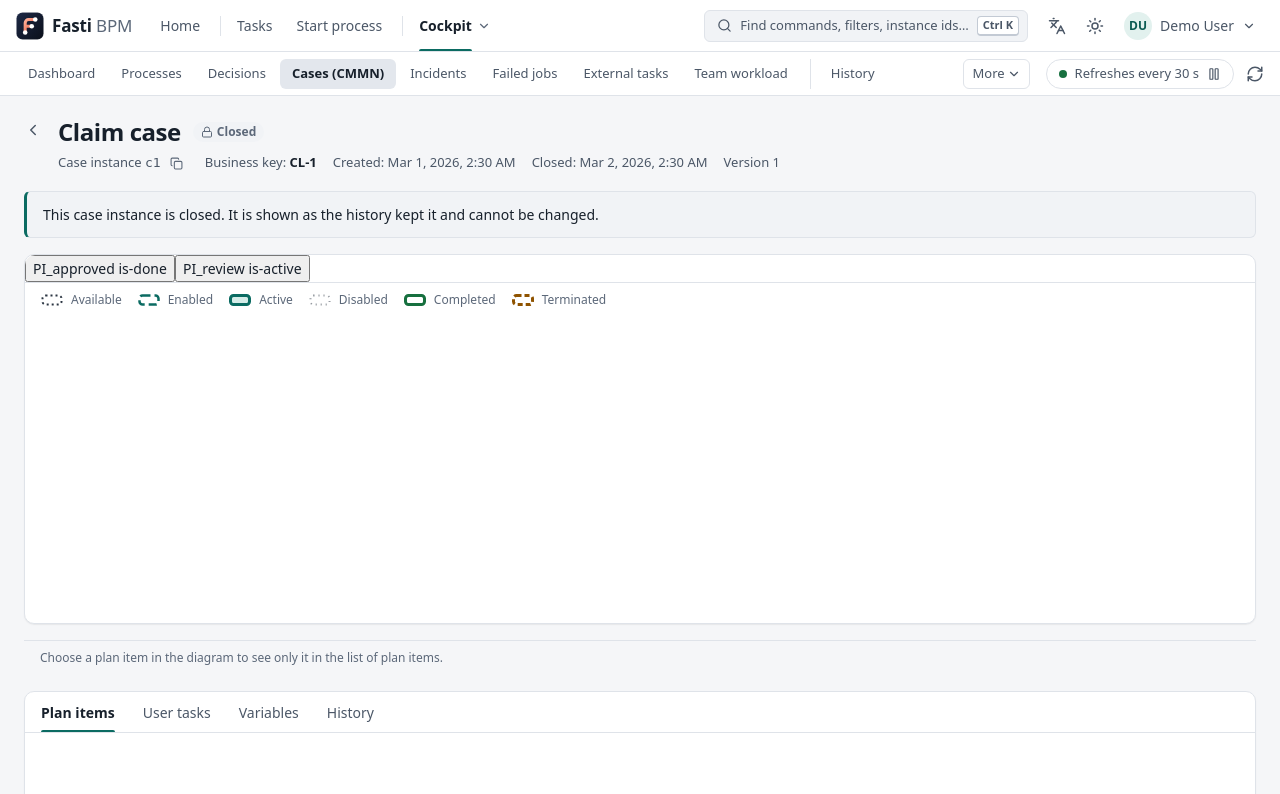
it: a case instance › shows a closed case instance from the history, read only
Check: the text "This case instance is closed" is shown, box [43,205,599,224]
Check: the text "Closed" is shown, box [193,122,264,142]
What coordinates should you click on to do the following:
click the tab "Variables"
I would click on:
 (269, 712)
Its box is [227,692,311,732].
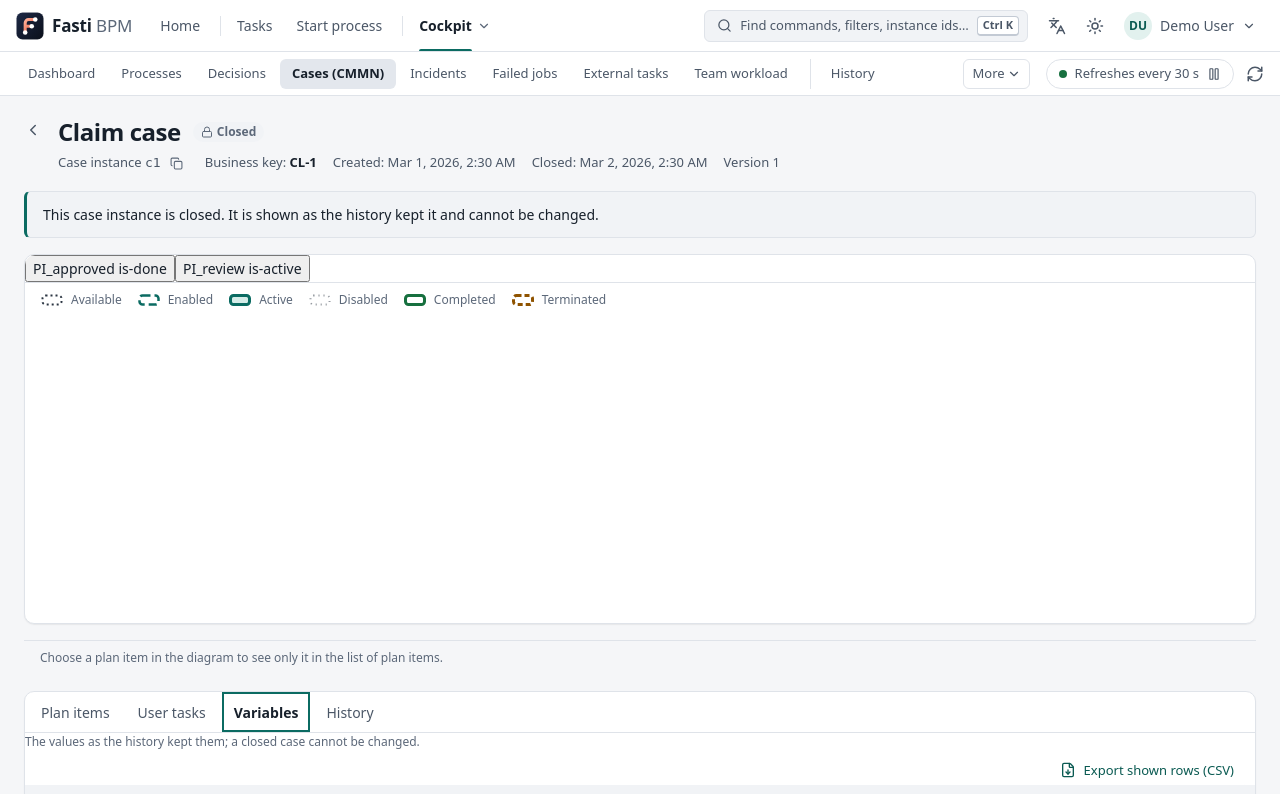
What coordinates should you click on to do the following:
click the tab "History"
I would click on:
 (350, 712)
Its box is [314,692,386,732].
(page scrolled)
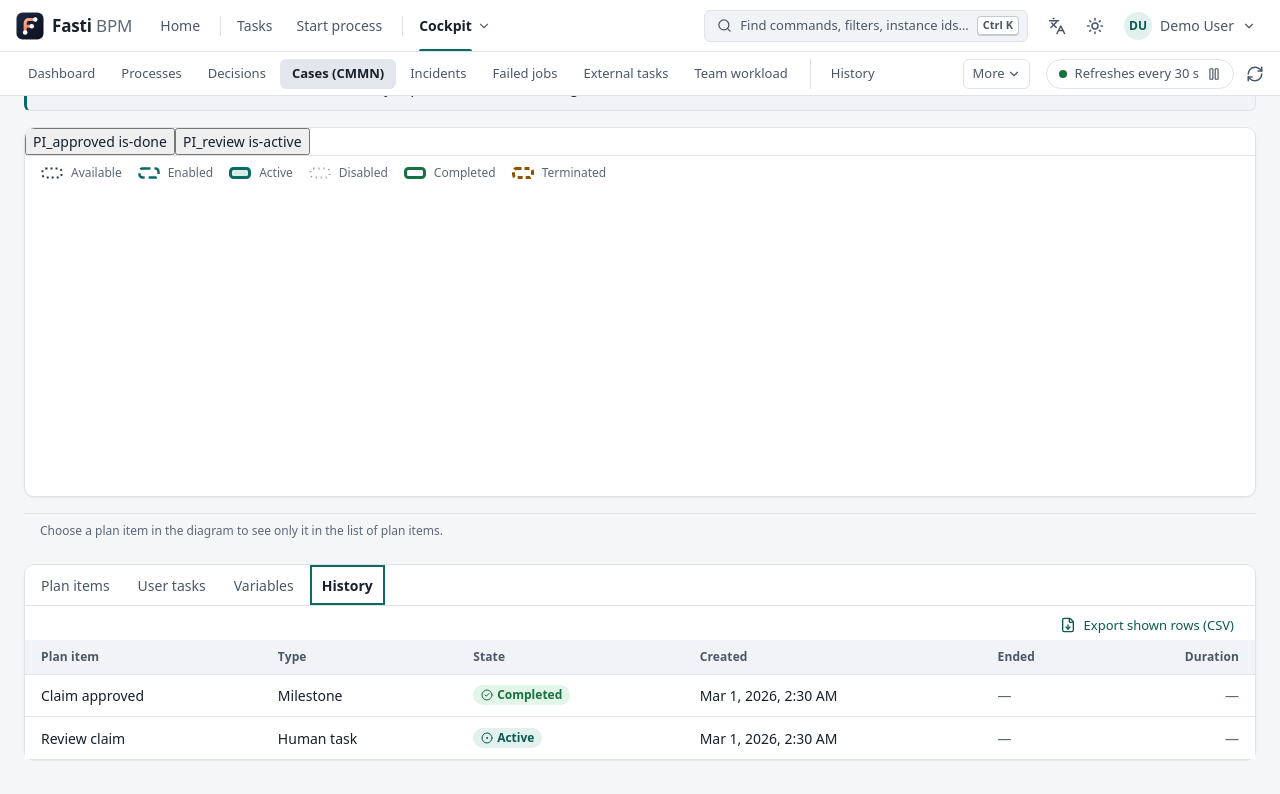
Check: the table named "History" shows "Claim approved", box [41,686,144,705]
